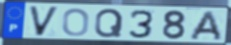3: (129, 9, 156, 40)
8: (162, 9, 188, 40)
A: (188, 10, 224, 41)
O: (61, 8, 91, 38)
Q: (93, 7, 125, 39)
V: (28, 5, 61, 38)
